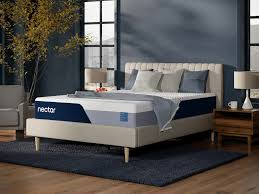bed-matress: (33, 83, 218, 128)
